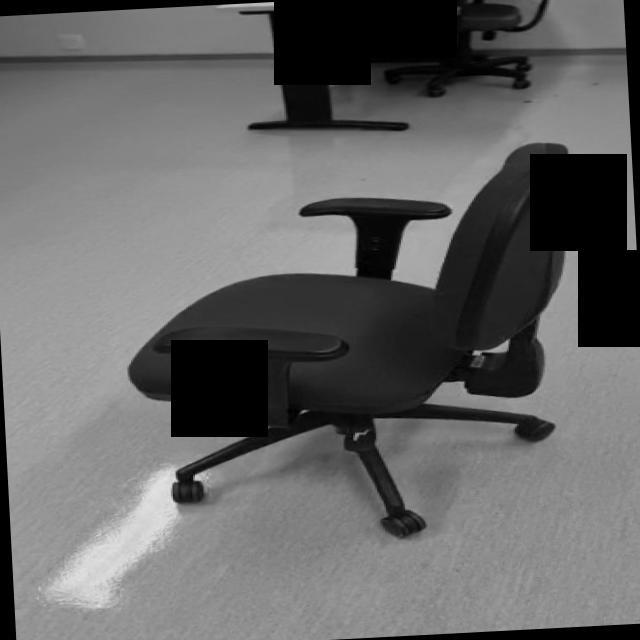chair: (121, 142, 590, 550)
